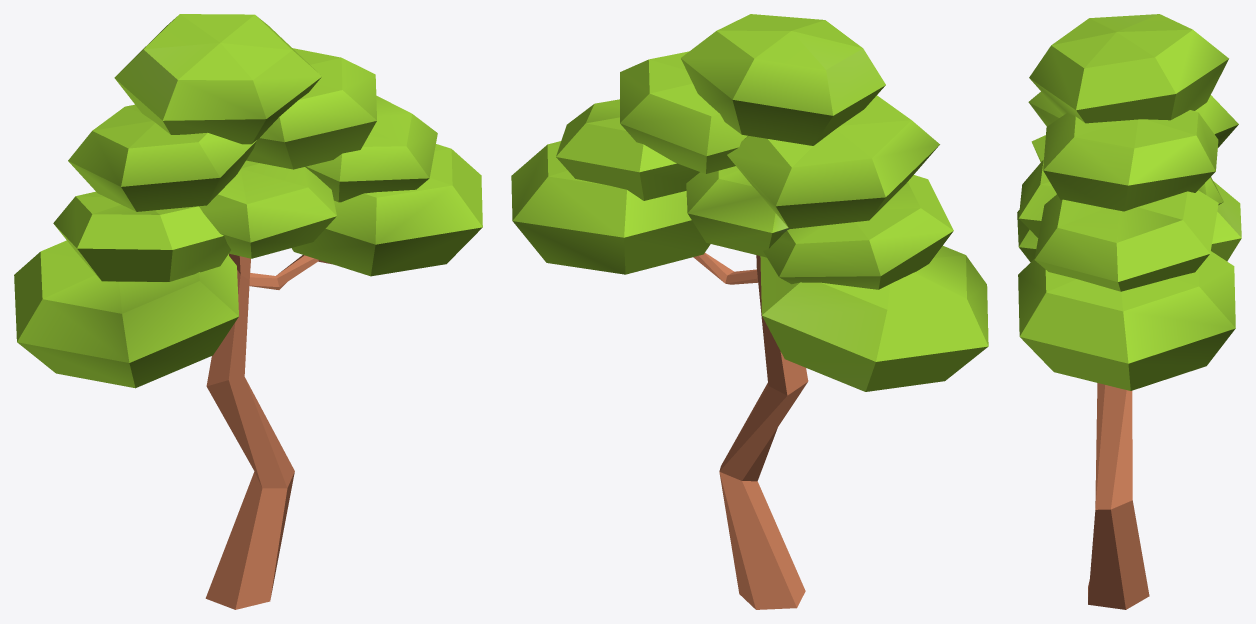
The model's file is treeWlight.gltf.
3 views of the same model, side by side, from view 1: azimuth 30°, elevation 25°; view 2: azimuth 150°, elevation 25°; view 3: azimuth 270°, elevation 25° (orthographic). The views are drawn at different scales.
Visible parts, largest first — view 1: Cube; view 2: Cube; view 3: Cube.
Part boxes in pixels (x1,y1,x2,y2): Cube: [14, 14, 482, 609]; Cube: [511, 14, 988, 609]; Cube: [1017, 14, 1241, 609].
Size of the model in its own units: 10.99 by 12.61 by 4.61.
